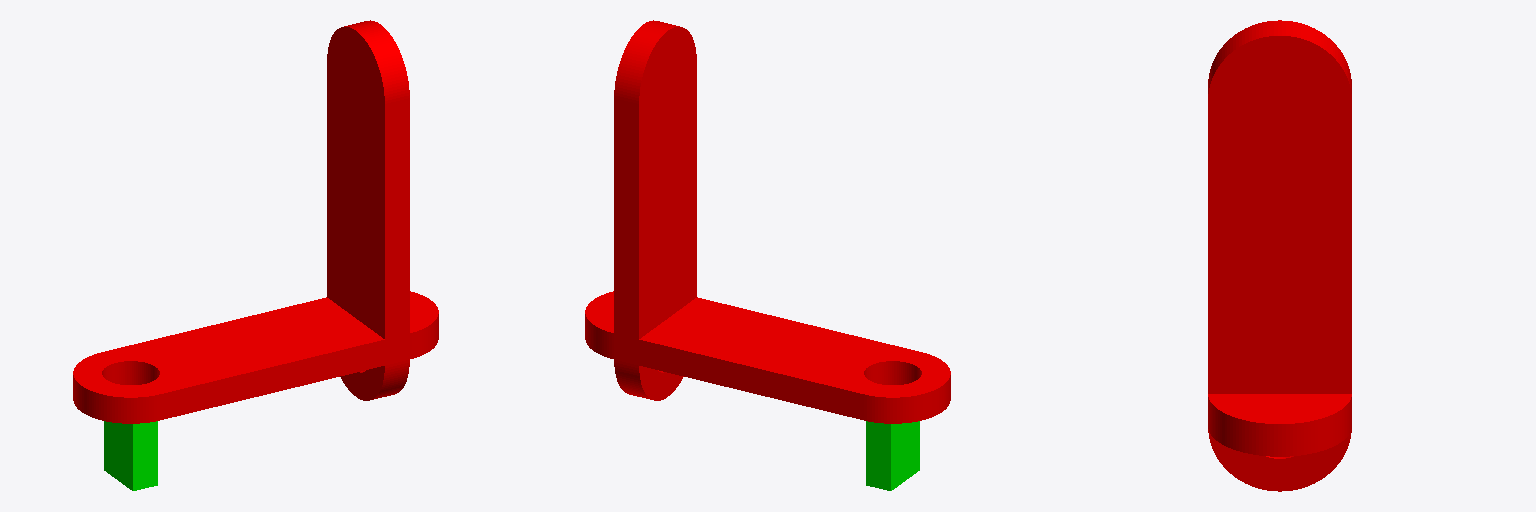
URDF robot description (robot_v1):
<?xml version="1.0" encoding="utf-8"?>
<!-- =================================================================================== -->
<!-- |    This document was autogenerated by xacro from robot_builder.xacro            | -->
<!-- |    EDITING THIS FILE BY HAND IS NOT RECOMMENDED                                 | -->
<!-- =================================================================================== -->
<robot name="robot_v1" xmlns:xacro="http://www.ros.org/wiki/xacro">
  <!-- XACRO macro function declarations -->
  <link name="base_link">
    <!-- Inertia properties here -->
    <inertial>
      <origin rpy="0.0 0.0 0.0" xyz="0.0 0.0 0.0"/>
      <mass value="0.0"/>
      <inertia ixx="0.0" ixy="0.0" ixz="0.0" iyy="0.0" iyz="0.0" izz="0.0"/>
    </inertial>
    <visual>
      <origin rpy="0.0 0.0 0.0" xyz="0.0 0.0 0.0"/>
      <geometry>
        <box size="0.1 0.2 0.3"/>
      </geometry>
      <material name="base_material">
        <color rgba="0.0 1.0 0.0 1.0"/>
      </material>
    </visual>
    <collision>
      <origin rpy="0.0 0.0 0.0" xyz="0.0 0.0 0.0"/>
      <geometry>
        <box size="0.1 0.2 0.3"/>
      </geometry>
    </collision>
  </link>
  <link name="link1">
    <inertial>
      <!--    Expected tags
                    <origin xyz="0.0 0.0 0.0" rpy="0.0 0.0 0.0"/>
                    <mass value="0.0"/>
                    <inertia ixx="0.0" ixy="0.0" ixz="0.0" iyy="0.0" iyz="0.0" izz="0.0"/>
                -->
      <origin rpy="0.0 0.0 0.0" xyz="0.0 0.0 0.0"/>
      <mass value="0.0"/>
      <inertia ixx="0.0" ixy="0.0" ixz="0.0" iyy="0.0" iyz="0.0" izz="0.0"/>
    </inertial>
    <visual>
      <origin rpy="0.0 0.0 0.0" xyz="0.0 0.0 0.0"/>
      <geometry>
        <mesh filename="package://robot_viz/urdf/meshes/link1_body.stl" scale="0.001 0.001 0.001"/>
      </geometry>
      <material name="link_material">
        <color rgba="1.0 0.0 0.0 1.0"/>
      </material>
    </visual>
    <collision>
      <origin rpy="0.0 0.0 0.0" xyz="0.0 0.0 0.0"/>
      <geometry>
        <box size="1 0.2 0.2"/>
      </geometry>
    </collision>
  </link>
  <joint name="joint_base_link_link1" type="revolute">
    <origin rpy="0.0 0.0 0.0" xyz="0.0 0.0 0.15"/>
    <parent link="base_link"/>
    <child link="link1"/>
    <axis xyz="0.0 0.0 1.0"/>
    <limit effort="10" lower="0" upper="6.28318530718" velocity="10"/>
  </joint>
  <link name="link2">
    <inertial>
      <!--    Expected tags
                    <origin xyz="0.0 0.0 0.0" rpy="0.0 0.0 0.0"/>
                    <mass value="0.0"/>
                    <inertia ixx="0.0" ixy="0.0" ixz="0.0" iyy="0.0" iyz="0.0" izz="0.0"/>
                -->
      <origin rpy="0.0 0.0 0.0" xyz="0.0 0.0 0.0"/>
      <mass value="0.0"/>
      <inertia ixx="0.0" ixy="0.0" ixz="0.0" iyy="0.0" iyz="0.0" izz="0.0"/>
    </inertial>
    <visual>
      <origin rpy="0.0 0.0 0.0" xyz="0.0 0.0 0.0"/>
      <geometry>
        <mesh filename="package://robot_viz/urdf/meshes/link1_body.stl" scale="0.001 0.001 0.001"/>
      </geometry>
      <material name="link_material">
        <color rgba="1.0 0.0 0.0 1.0"/>
      </material>
    </visual>
    <collision>
      <origin rpy="0.0 0.0 0.0" xyz="0.0 0.0 0.0"/>
      <geometry>
        <box size="1 0.2 0.2"/>
      </geometry>
    </collision>
  </link>
  <joint name="joint_link1_link2" type="revolute">
    <origin rpy="0.0 -1.57079632679 0.0" xyz="1.0 0.0 0"/>
    <parent link="link1"/>
    <child link="link2"/>
    <axis xyz="0.0 0.0 1.0"/>
    <limit effort="10" lower="0" upper="6.28318530718" velocity="10"/>
  </joint>
</robot>

--- What the picture shows (computed from the rendered views, not written in the file) ---
3 views of the same robot in one strip: view 1: azimuth 30°, elevation 25°; view 2: azimuth 150°, elevation 25°; view 3: azimuth 270°, elevation 25° (orthographic).
Model robot_v1 with 3 links and 2 joints (2 revolute), rooted at base_link, posed all joints at 0.
Links seen in each view (by area): view 1: link2, link1, base_link; view 2: link2, link1, base_link; view 3: link2, link1.
Link boxes in pixels (left/top/right/bottom): link2: left=327, top=20, right=409, bottom=400; link1: left=73, top=291, right=438, bottom=423; base_link: left=104, top=421, right=157, bottom=490; link2: left=614, top=20, right=696, bottom=400; link1: left=585, top=291, right=950, bottom=423; base_link: left=866, top=421, right=919, bottom=490; link2: left=1208, top=20, right=1351, bottom=491; link1: left=1208, top=394, right=1351, bottom=456.
Bounding box of the posed robot: 1.4 × 0.4 × 1.5 m (x, y, z).
Meshes: 1 distinct files referenced, 2 mesh visuals loaded (1 binary STL).
